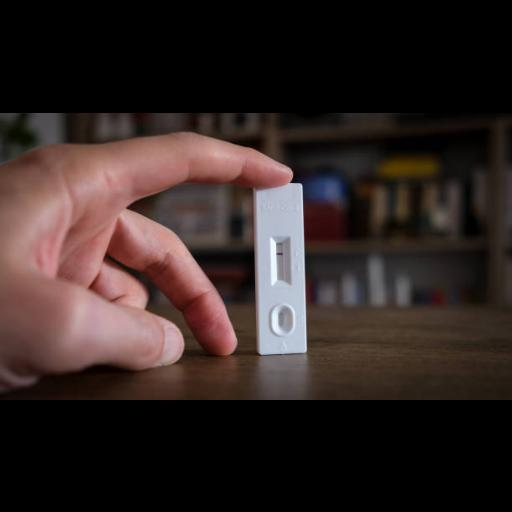Neg: (254, 183, 306, 353)
